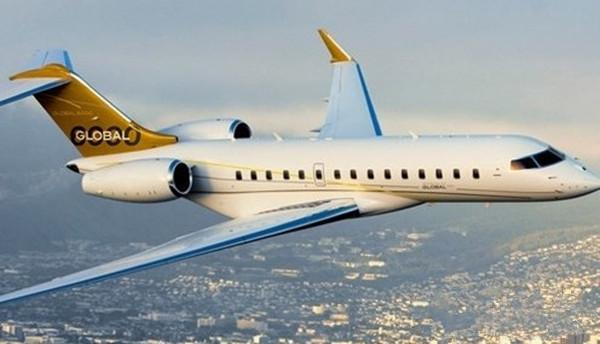airplane: (5, 27, 600, 303)
